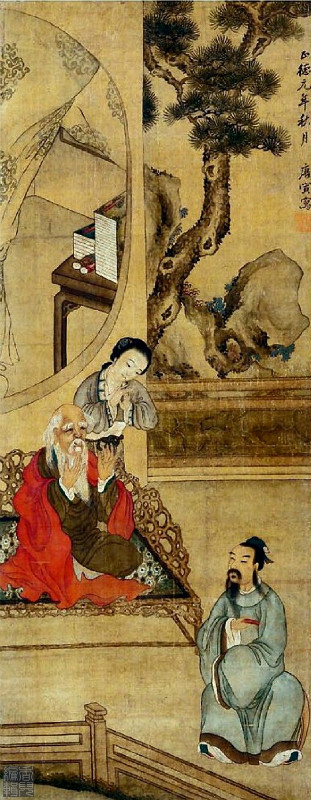decoration: (3, 3, 147, 344)
man: (196, 531, 303, 764), (34, 414, 100, 608), (101, 489, 135, 602), (6, 482, 34, 606)
tree: (164, 10, 286, 153), (161, 161, 230, 368)
wall: (165, 385, 311, 470), (16, 722, 171, 791), (181, 770, 277, 800)
woman: (86, 352, 155, 431)
